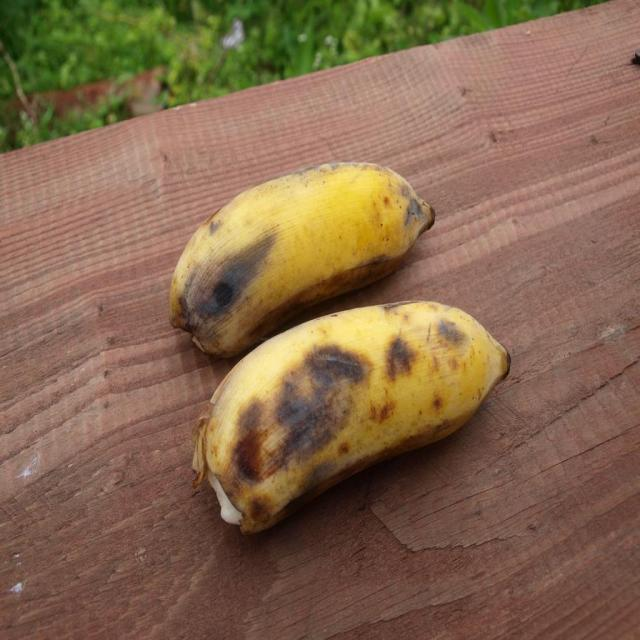banana: (192, 302, 511, 538), (166, 163, 437, 362)
